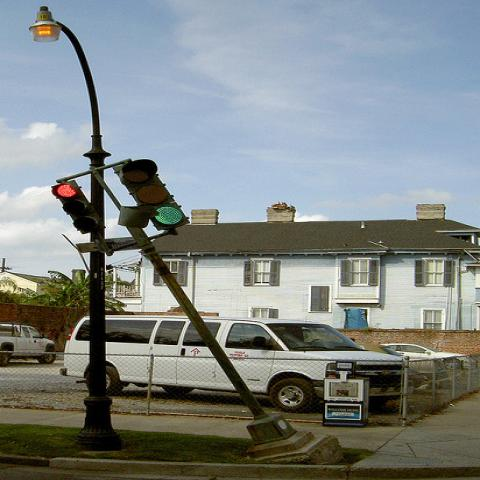car: (380, 342, 479, 368)
truck: (58, 314, 416, 415), (0, 324, 57, 367)
